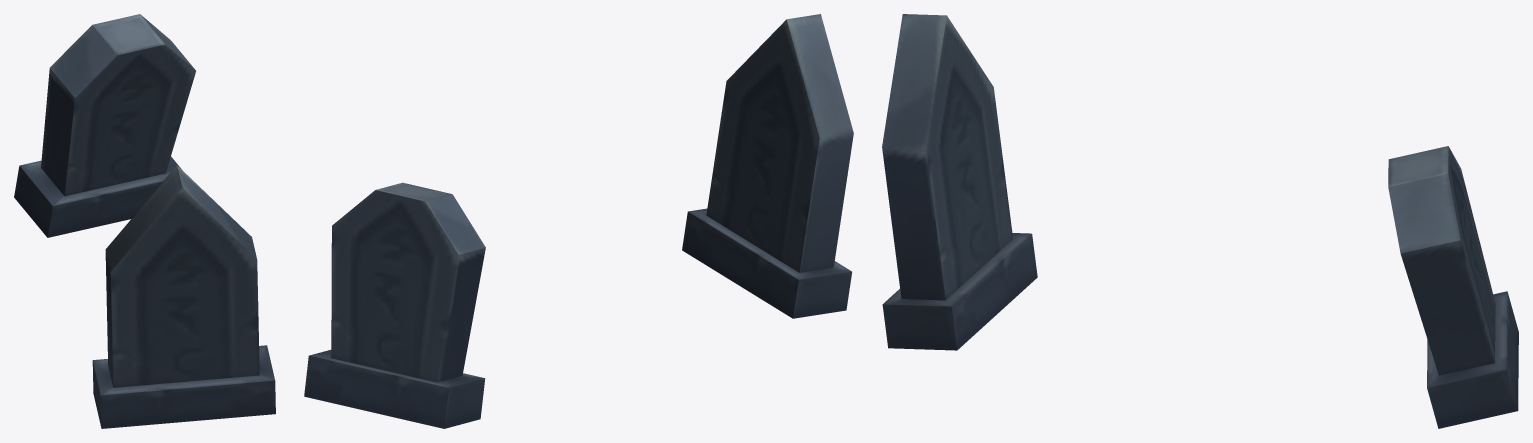
Rendered from Area_04_31.fbx.
3 renders of one model, left to right at view 1: azimuth 30°, elevation 25°; view 2: azimuth 150°, elevation 25°; view 3: azimuth 270°, elevation 25°, orthographic. The views are drawn at different scales.
Visible parts, largest first — view 1: Area_04_31; view 2: Area_04_31; view 3: Area_04_31.
Boxes of the visible parts, x1,y1,x2,y2 form: Area_04_31: (14, 14, 275, 428); Area_04_31: (304, 14, 853, 428); Area_04_31: (882, 14, 1518, 428).
Bounding box in the file's own units: 645 × 550 × 1066.
